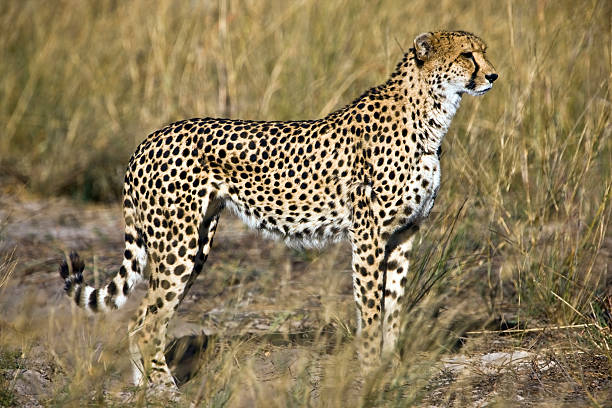cheetah: (407, 20, 507, 103)
